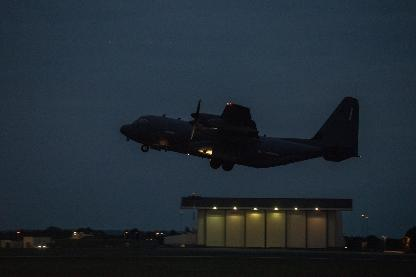Be200: (119, 95, 360, 170)
